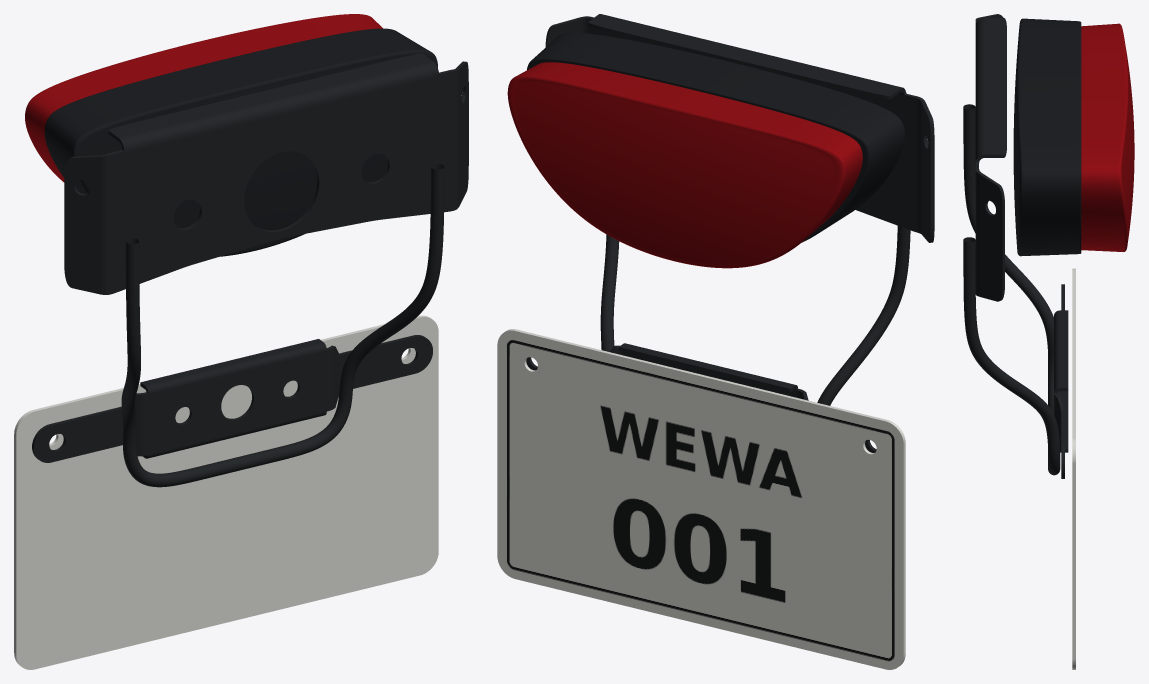
File: rear-cluster-review-v4.glb
3 renders of one model, left to right at view 1: azimuth 30°, elevation 25°; view 2: azimuth 150°, elevation 25°; view 3: azimuth 270°, elevation 25°, orthographic. The views are drawn at different scales.
Visible parts, largest first — view 1: MOTO-LICENSE-PLATE-WEWA-001, MOTO-TAIL-LAMP-UPPER-BRACKET-001, MOTO-TAIL-LAMP-BLACK-HOUSING-001, MOTO-REAR-PLATE-CARRIER-CROSSBAR-001, MOTO-REAR-PLATE-CARRIER-WIRE-001, MOTO-TAIL-LAMP-OUTER-LENS-001; view 2: MOTO-LICENSE-PLATE-WEWA-001, MOTO-TAIL-LAMP-OUTER-LENS-001, MOTO-TAIL-LAMP-BLACK-HOUSING-001, MOTO-TAIL-LAMP-UPPER-BRACKET-001, MOTO-REAR-PLATE-CARRIER-WIRE-001, MOTO-REAR-PLATE-CARRIER-CROSSBAR-001; view 3: MOTO-TAIL-LAMP-BLACK-HOUSING-001, MOTO-TAIL-LAMP-OUTER-LENS-001, MOTO-TAIL-LAMP-UPPER-BRACKET-001, MOTO-REAR-PLATE-CARRIER-WIRE-001, MOTO-REAR-PLATE-CARRIER-CROSSBAR-001, MOTO-LICENSE-PLATE-WEWA-001.
Part boxes in pixels (box(x1,y1,x2,y2)): MOTO-LICENSE-PLATE-WEWA-001: box(14, 315, 438, 669); MOTO-TAIL-LAMP-UPPER-BRACKET-001: box(64, 53, 468, 294); MOTO-TAIL-LAMP-BLACK-HOUSING-001: box(44, 28, 437, 256); MOTO-REAR-PLATE-CARRIER-CROSSBAR-001: box(32, 335, 432, 462); MOTO-REAR-PLATE-CARRIER-WIRE-001: box(121, 164, 444, 487); MOTO-TAIL-LAMP-OUTER-LENS-001: box(25, 14, 382, 182); MOTO-LICENSE-PLATE-WEWA-001: box(497, 329, 905, 669); MOTO-TAIL-LAMP-OUTER-LENS-001: box(507, 62, 862, 268); MOTO-TAIL-LAMP-BLACK-HOUSING-001: box(527, 33, 904, 242); MOTO-TAIL-LAMP-UPPER-BRACKET-001: box(545, 14, 934, 242); MOTO-REAR-PLATE-CARRIER-WIRE-001: box(600, 226, 910, 405); MOTO-REAR-PLATE-CARRIER-CROSSBAR-001: box(526, 343, 876, 452); MOTO-TAIL-LAMP-BLACK-HOUSING-001: box(1013, 18, 1081, 256); MOTO-TAIL-LAMP-OUTER-LENS-001: box(1081, 23, 1134, 251); MOTO-TAIL-LAMP-UPPER-BRACKET-001: box(975, 14, 1006, 301); MOTO-REAR-PLATE-CARRIER-WIRE-001: box(963, 104, 1060, 475); MOTO-REAR-PLATE-CARRIER-CROSSBAR-001: box(1054, 284, 1068, 478); MOTO-LICENSE-PLATE-WEWA-001: box(1072, 268, 1075, 669).
Bounding box in the file's own units: 0.18 × 0.2284 × 0.0707.
Materials: 7 (1 with a texture image).
